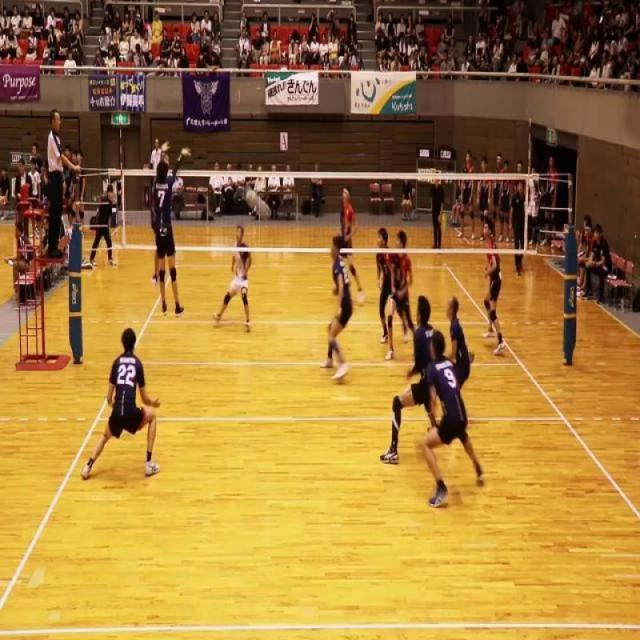volleyball: (245, 187, 271, 220)
